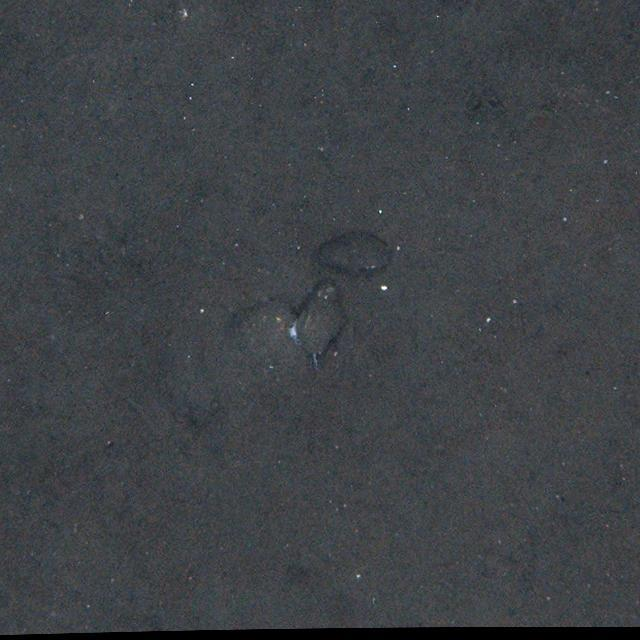whelk: (288, 279, 343, 369)
